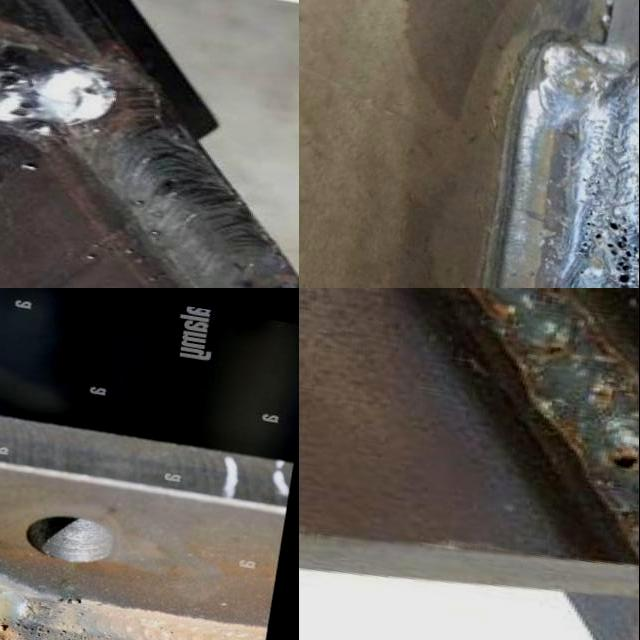defect: (589, 215, 640, 288), (4, 98, 46, 119), (608, 449, 640, 476), (0, 68, 35, 92), (16, 618, 52, 640), (0, 616, 14, 640), (68, 596, 84, 606), (76, 627, 88, 635), (58, 629, 68, 637)
